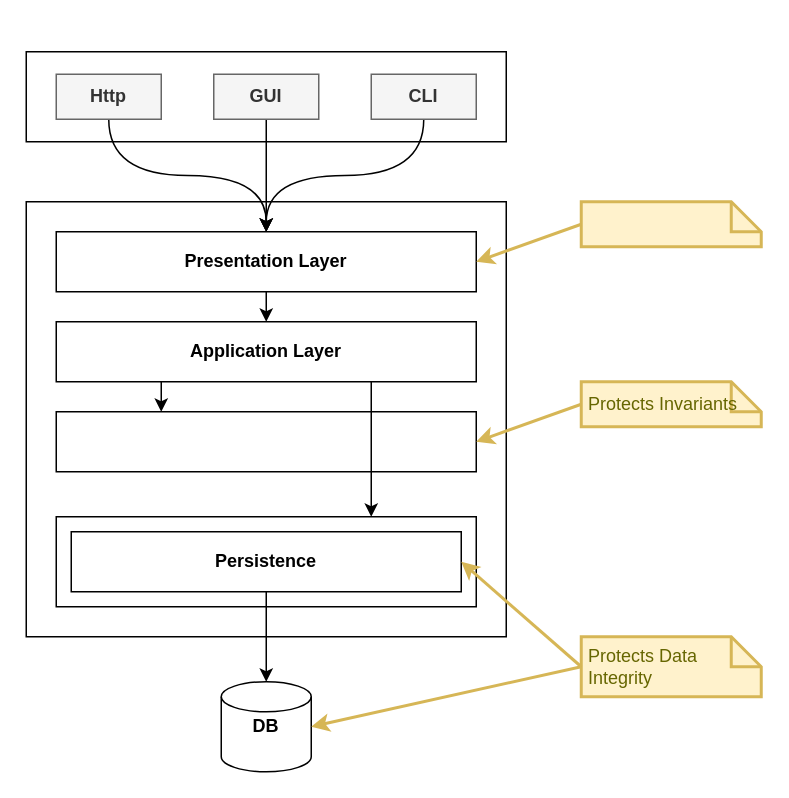
Image size: 789x798. Some labels were removed from this diagram. The shapes that lost their labels are listed below. From the top down, each one's box as (x1, y1, x2, y2) in pixels, then its label:
(25, 50, 506, 142): Clients
(579, 200, 762, 248): Validates Input
(55, 410, 476, 472): Domain Layer
(55, 515, 476, 607): Infrastructure Layer
